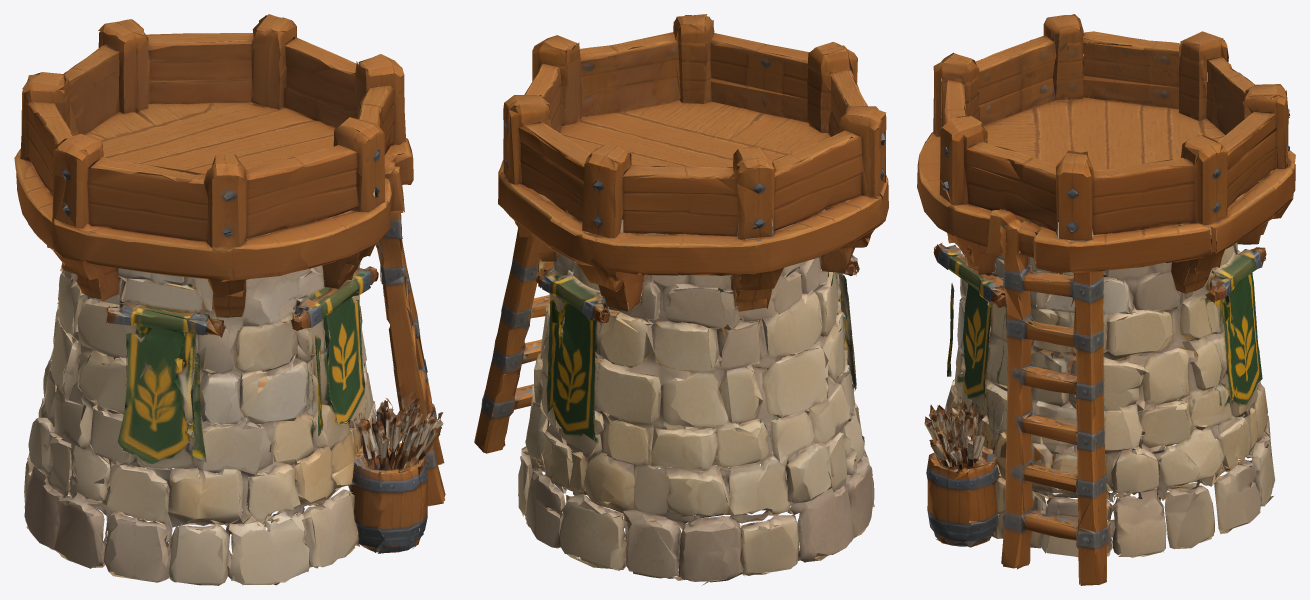
Rendered from archer_2.glb.
3 renders of one model, left to right at view 1: azimuth 30°, elevation 25°; view 2: azimuth 150°, elevation 25°; view 3: azimuth 270°, elevation 25°, orthographic. The views are drawn at different scales.
Visible parts, largest first — view 1: Body; view 2: Body; view 3: Body.
Part boxes in pixels (x1,y1,x2,y2): Body: (14, 14, 445, 585); Body: (474, 14, 888, 585); Body: (917, 14, 1295, 585).
Bounding box in the file's own units: 3.09 × 3.17 × 2.7.
Materials: 1 (1 with a texture image).
